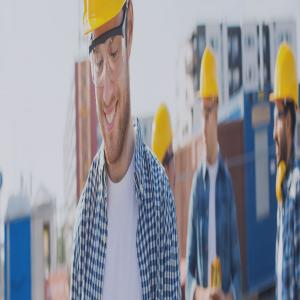yellow: (85, 3, 135, 152), (275, 33, 299, 166), (152, 103, 176, 210), (201, 50, 221, 158)
